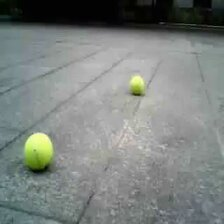tennis: (23, 132, 52, 165), (131, 75, 145, 94)
